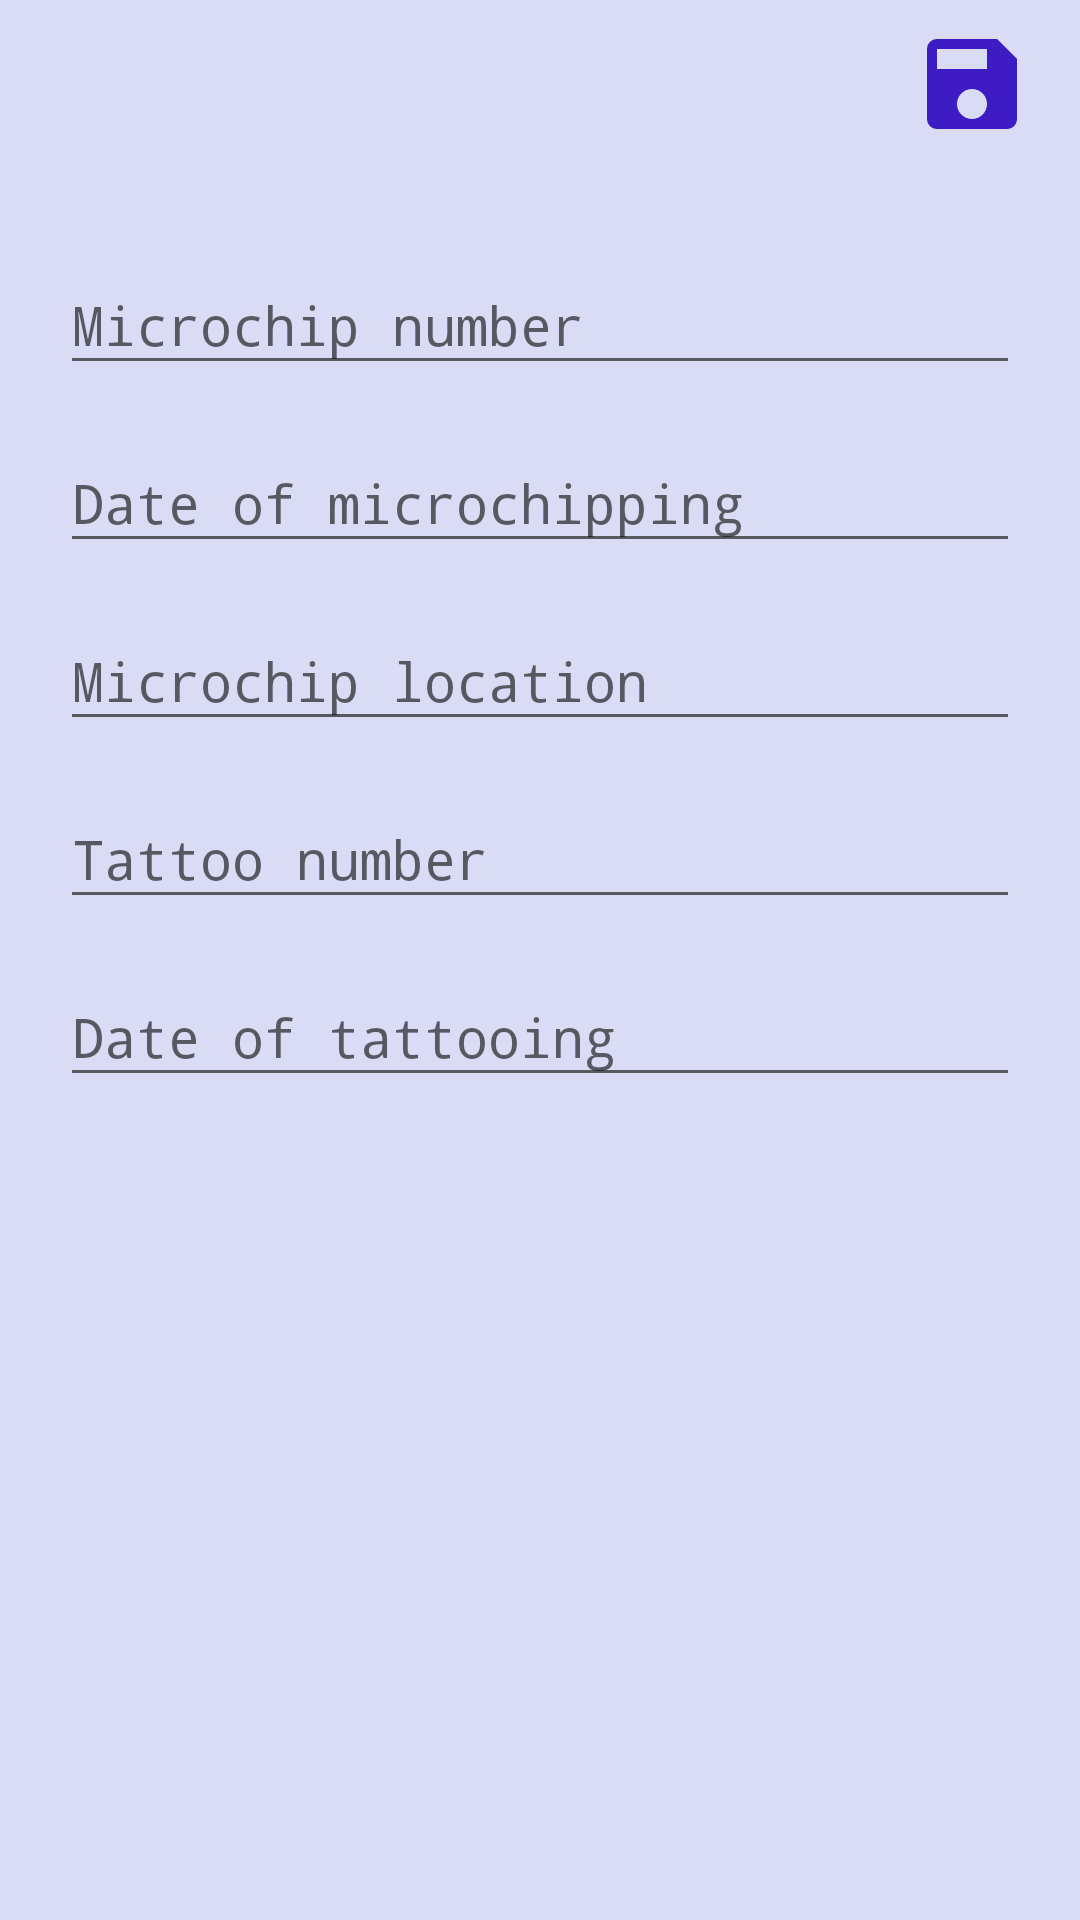

Screen size 1080px x 1920px. Icon name, then its center in pixels as [x,y]:
save: [972,84]
